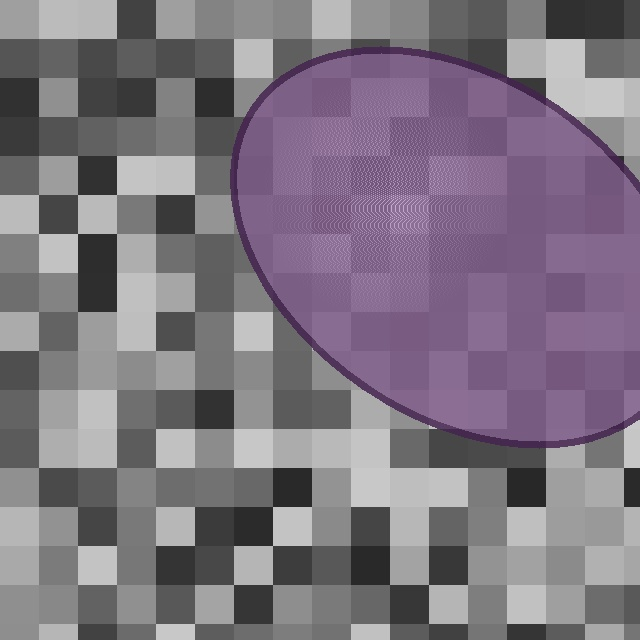lens: (234, 49, 640, 445)
